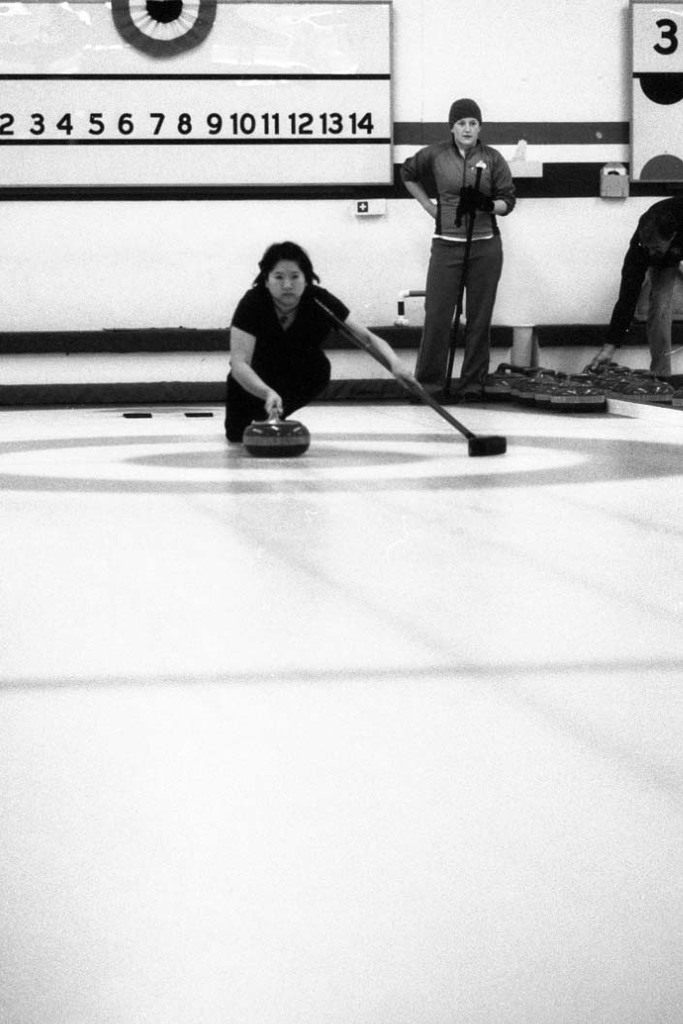Person: (225, 238, 421, 442), (399, 97, 516, 402)
